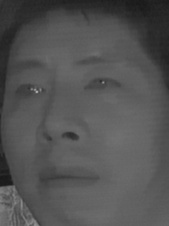eye: (83, 74, 123, 95), (10, 81, 47, 103)
mouth: (36, 160, 100, 195)
